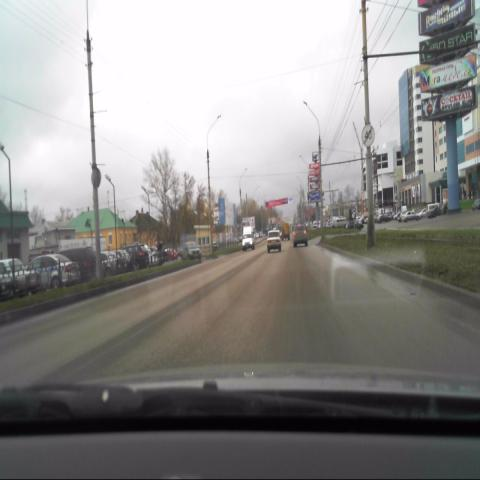3_25: (360, 123, 376, 148)
